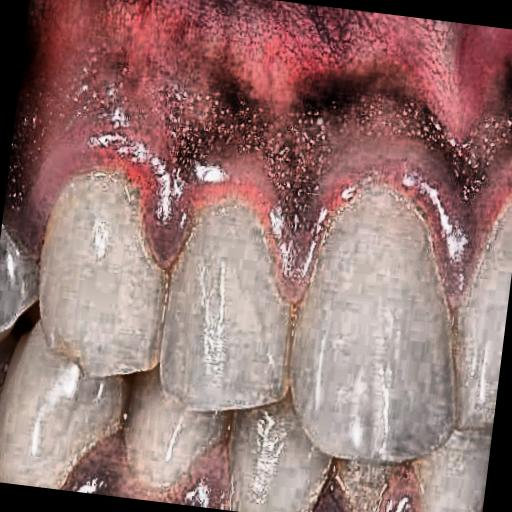Gingivitis: (0, 7, 512, 316)
